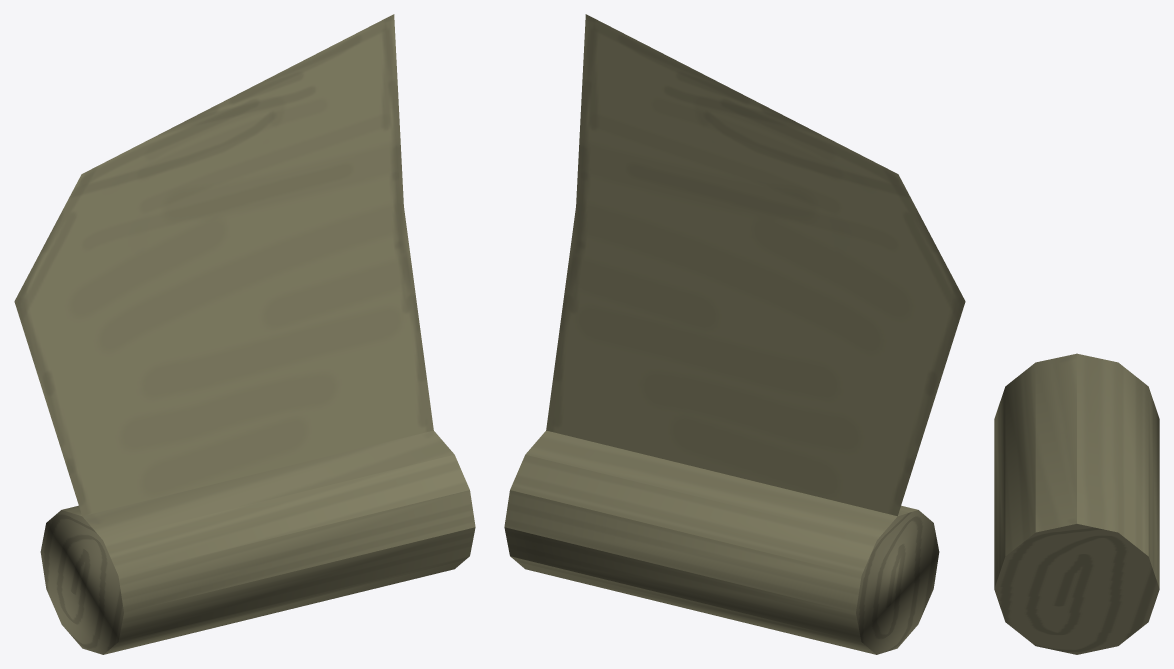
Rendered from frammentoPergamena4.fbx.
3 renders of one model, left to right at view 1: azimuth 30°, elevation 25°; view 2: azimuth 150°, elevation 25°; view 3: azimuth 270°, elevation 25°, orthographic.
Parts seen in each view (by area): view 1: Cylinder.003; view 2: Cylinder.003; view 3: Cylinder.003.
Part boxes in pixels (x1=…): Cylinder.003: x1=14, y1=14, x2=475, y2=654; Cylinder.003: x1=504, y1=14, x2=965, y2=654; Cylinder.003: x1=994, y1=353, x2=1159, y2=654.
Bounding box in the file's own units: 41.47 × 52.76 × 14.29.
